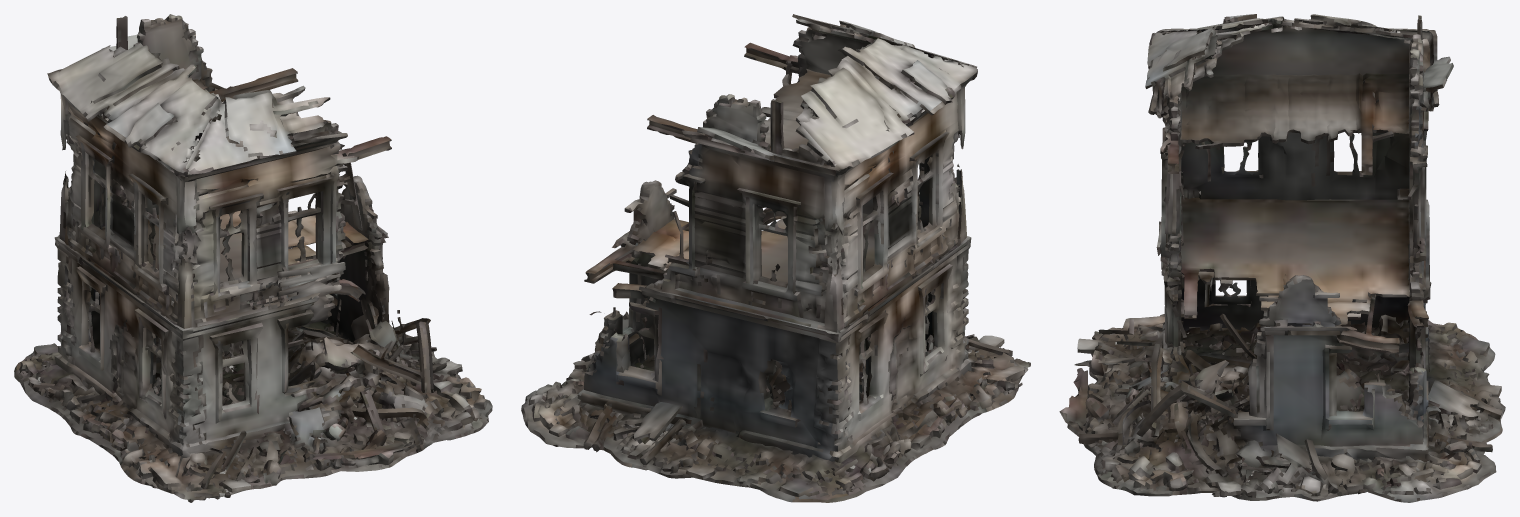
File: ruin_house.glb
3 views of the same model, side by side, from view 1: azimuth 30°, elevation 25°; view 2: azimuth 150°, elevation 25°; view 3: azimuth 270°, elevation 25° (orthographic). The views are drawn at different scales.
Visible parts, largest first — view 1: output; view 2: output; view 3: output.
Part boxes in pixels (left/top/right/bottom): output: left=14, top=14, right=492, bottom=502; output: left=521, top=14, right=1030, bottom=502; output: left=1059, top=14, right=1505, bottom=502.
Bounding box in the file's own units: 1.91 × 1.8 × 2.01.
1 material, 1 textured.
